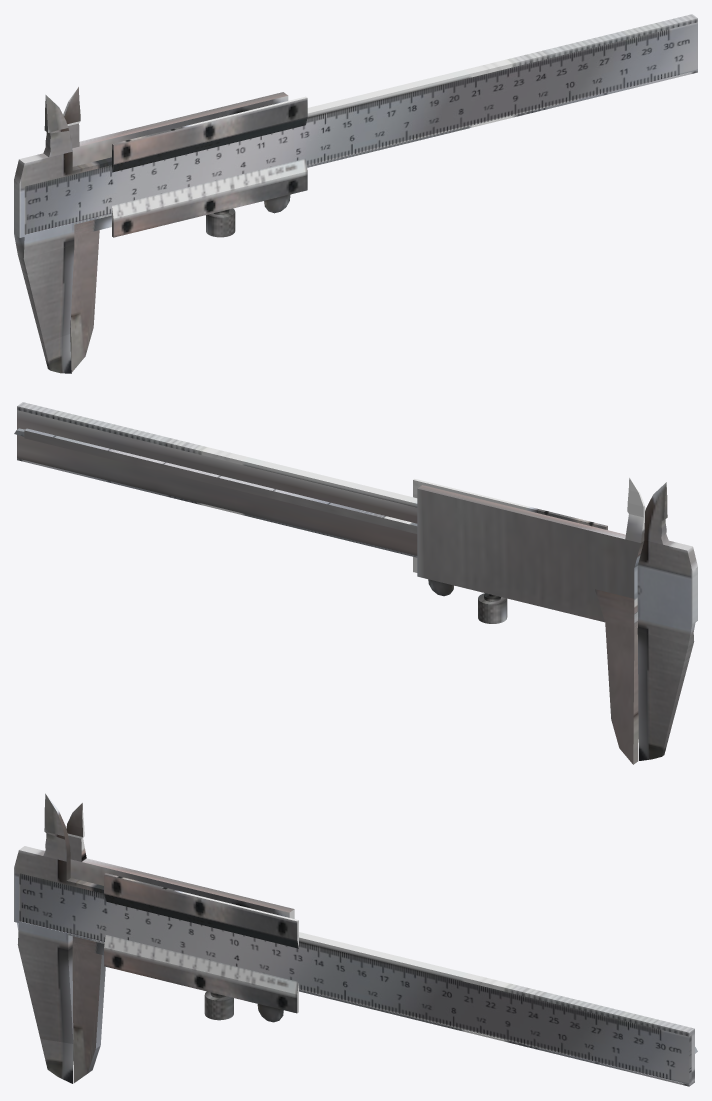
3 views of the same model, one above another, from view 1: azimuth 30°, elevation 25°; view 2: azimuth 150°, elevation 25°; view 3: azimuth 330°, elevation 25° (orthographic).
Parts seen in each view (by area): view 1: Cube, Cube.004, Cube.001, Cylinder; view 2: Cube.001, Cube.004, Cylinder; view 3: Cube, Cube.004, Cube.001, Cylinder.
Part boxes in pixels (x1,y1,x2,y2): Cube: [24, 22, 697, 234]; Cube.004: [63, 87, 307, 372]; Cube.001: [14, 14, 697, 373]; Cylinder: [206, 208, 235, 237]; Cube.001: [17, 402, 697, 760]; Cube.004: [14, 428, 645, 764]; Cylinder: [478, 593, 507, 623]; Cube: [19, 873, 691, 1084]; Cube.004: [66, 803, 697, 1083]; Cube.001: [14, 793, 694, 1086]; Cylinder: [204, 991, 233, 1020].
Bounding box in the file's own units: 3.3 × 1.33 × 0.1233.
Materials: 1 (1 with a texture image).
